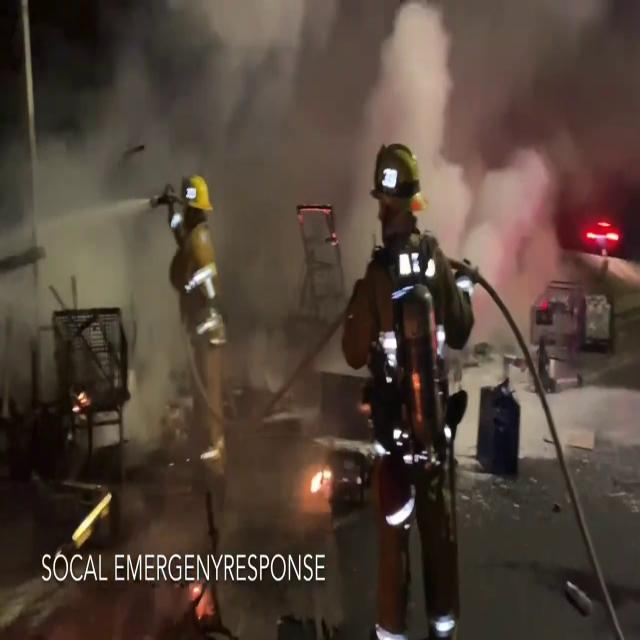Fire: (306, 458, 334, 505)
Smoke: (21, 0, 639, 314)
